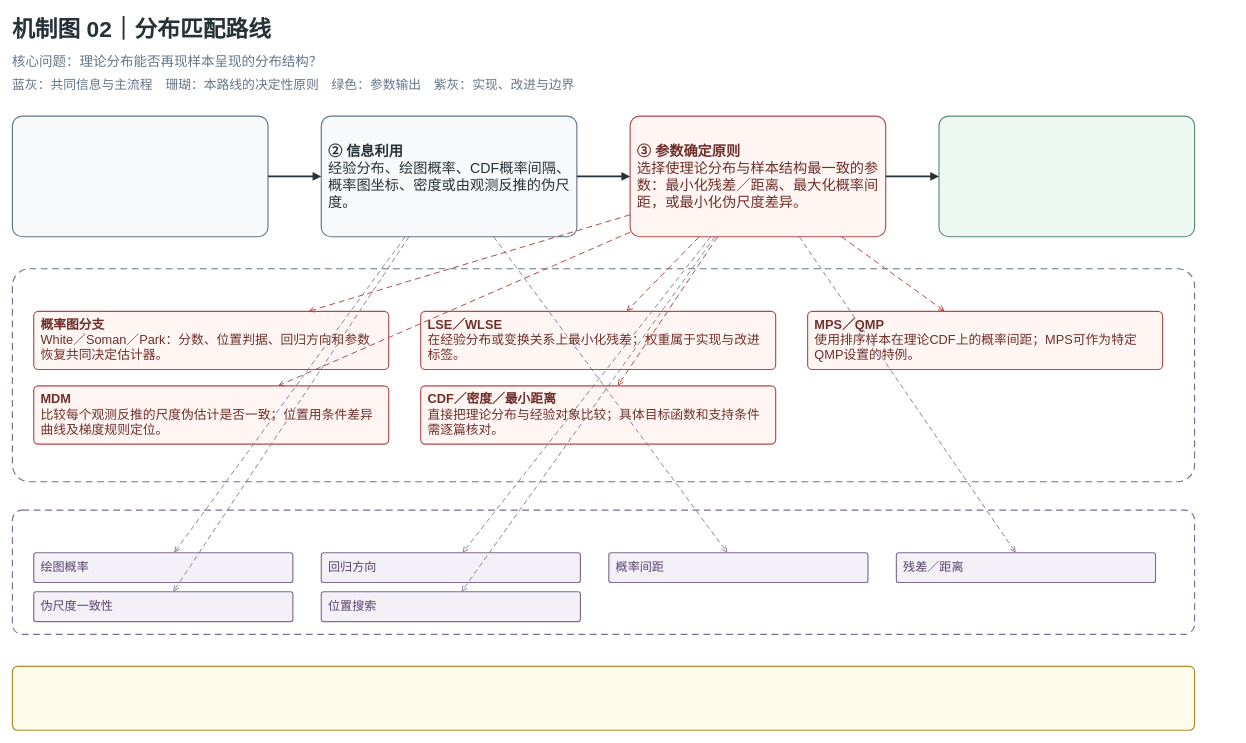
Image size: 1246x743. Some labels were removed from this diagram. The shapes that lost their labels are listed below. From the top down, each one's box as (x1, y1, x2, y2) in pixels, then its label:
(12, 115, 268, 237): ① 样本 D 排序寿命样本 完整样本或指定观测条件
(938, 115, 1195, 237): ④ 三参数估计 β̂、η̂、γ̂ 以及拟合评分、间距评分或一致性曲线
(12, 268, 1195, 482): 主要构造与方法分支
(12, 509, 1195, 635): 实现与改进标签（横向，不另立一级类别）
(12, 665, 1195, 730): 解释边界 最大化概率间距与最大化密度似然的统计对象不同；共同使用概率量不自动表示沿袭。
